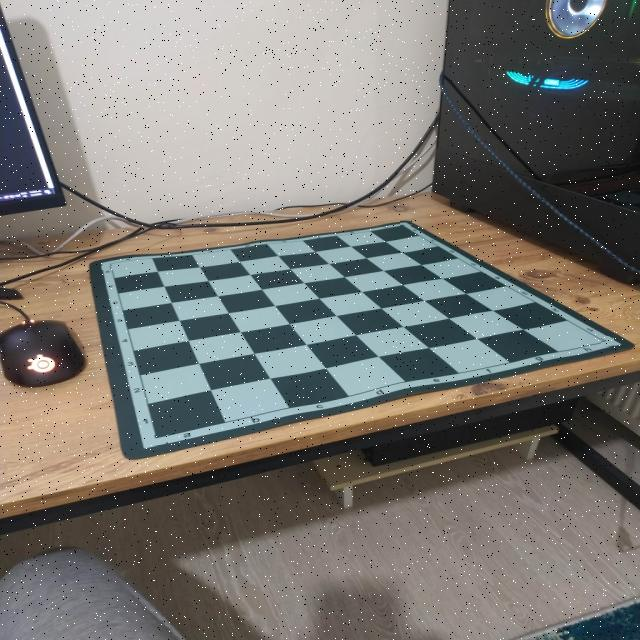corner: (144, 430, 169, 446), (101, 258, 122, 270), (594, 336, 614, 348), (394, 219, 412, 231)
